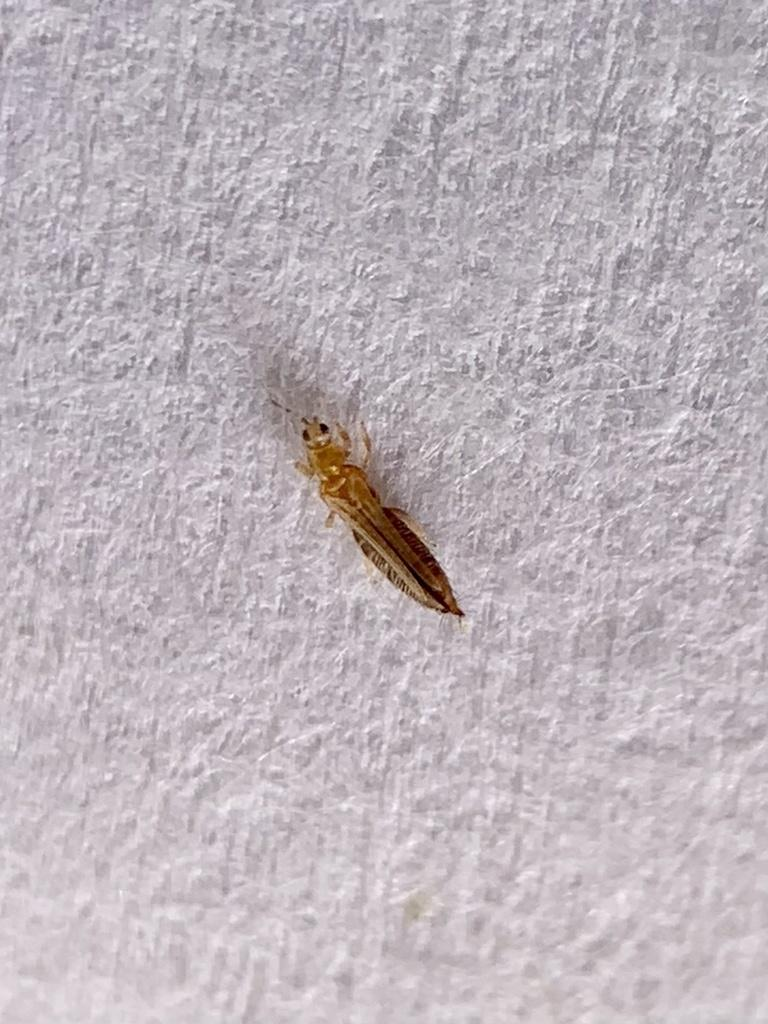tiny_pests: (223, 349, 513, 680)
